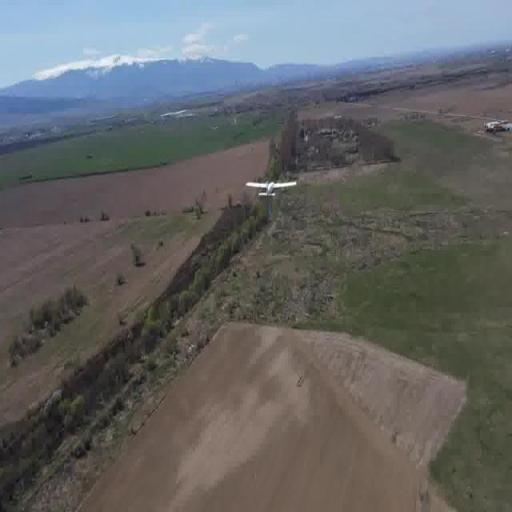uav: (244, 172, 300, 208)
